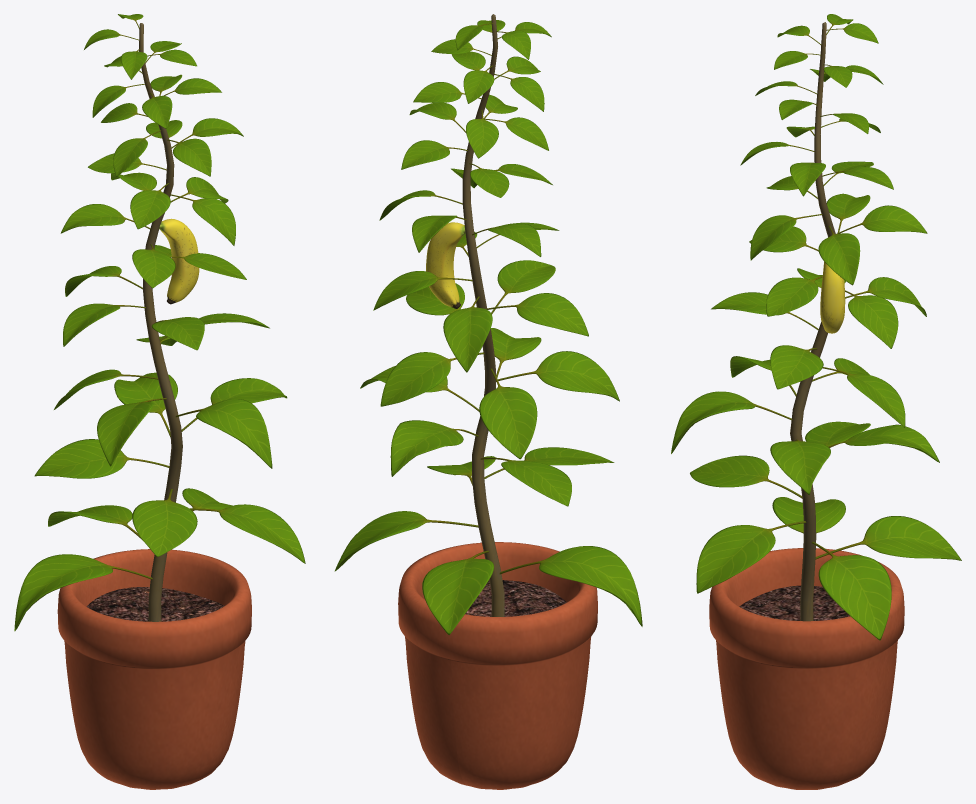
The model's file is plantnormalbig.fbx.
3 renders of one model, left to right at view 1: azimuth 30°, elevation 25°; view 2: azimuth 150°, elevation 25°; view 3: azimuth 270°, elevation 25°, orthographic. The views are drawn at different scales.
Parts seen in each view (by area): view 1: Mesh, Banana.geo; view 2: Mesh, Banana.geo; view 3: Mesh, Banana.geo.
Boxes of the visible parts, bbox=[...] form: Mesh: bbox=[14, 14, 305, 789]; Banana.geo: bbox=[159, 218, 199, 304]; Mesh: bbox=[334, 14, 642, 789]; Banana.geo: bbox=[426, 222, 465, 308]; Mesh: bbox=[671, 14, 961, 789]; Banana.geo: bbox=[820, 261, 845, 333].
Bounding box in the file's own units: 5.18 × 13.52 × 4.75.
